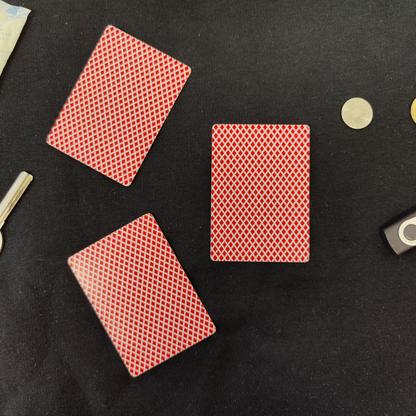card: (43, 18, 197, 193), (66, 208, 219, 383), (204, 119, 316, 267)
